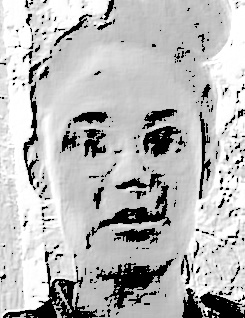nose_M_C: (110, 142, 151, 200)
